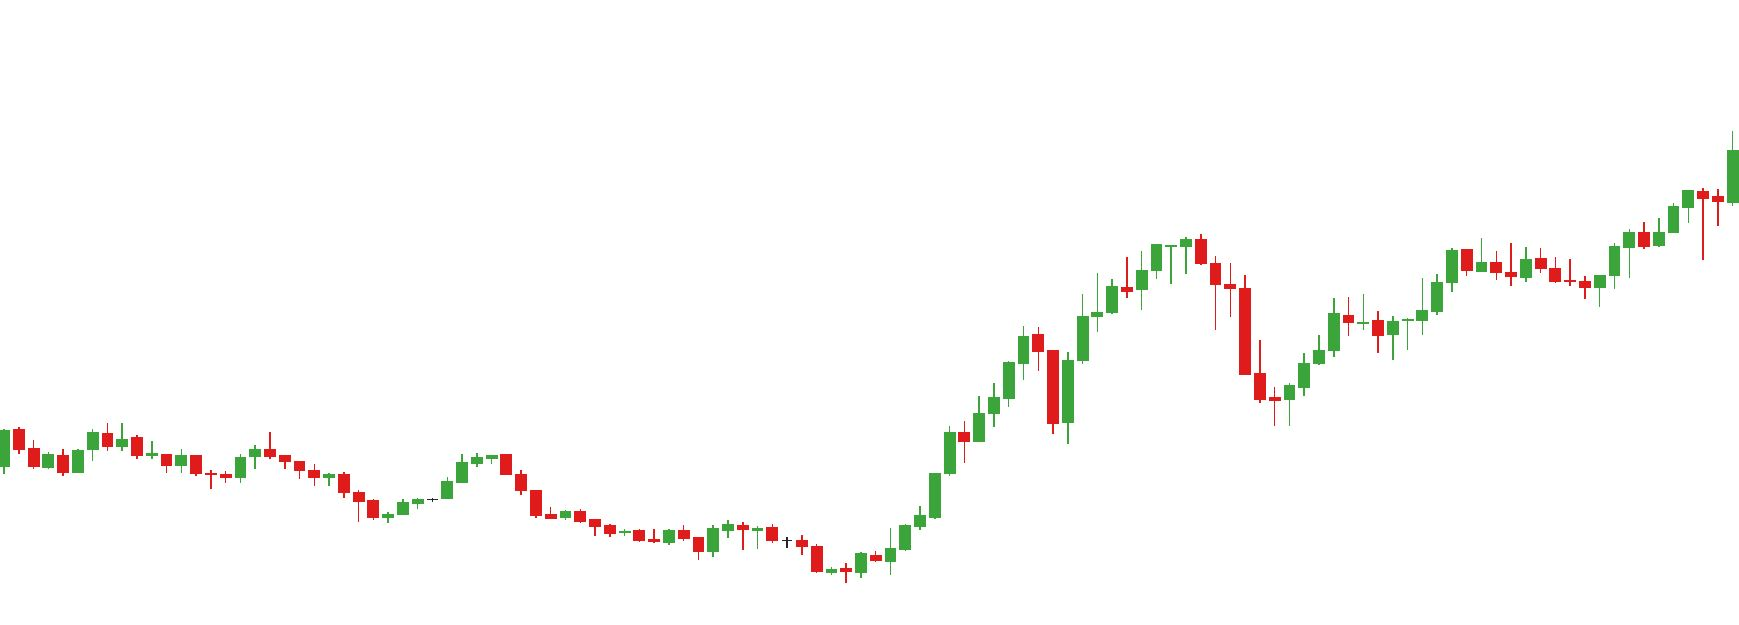sell: (174, 433, 278, 472)
